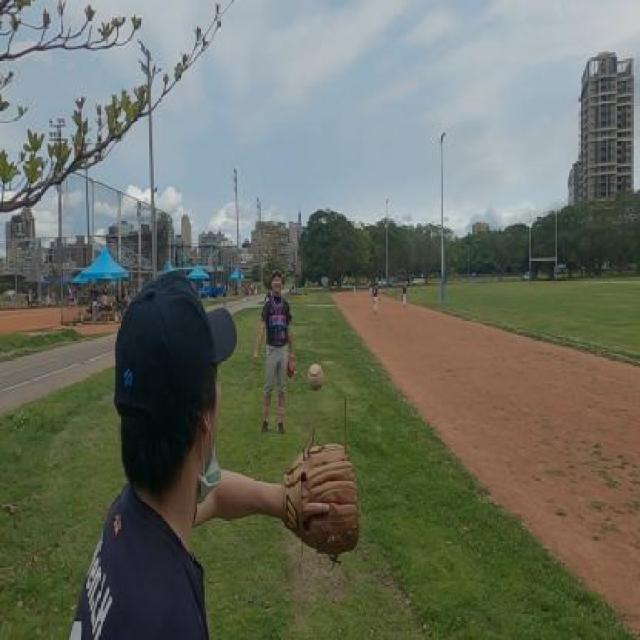baseball: (308, 362, 323, 393)
